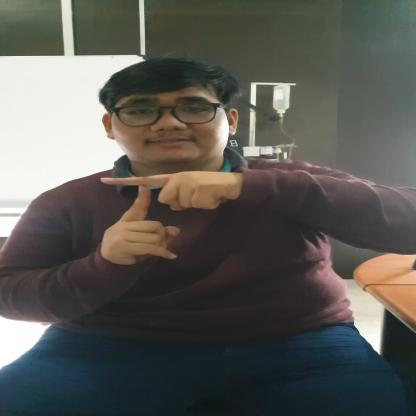T: (98, 170, 238, 266)
